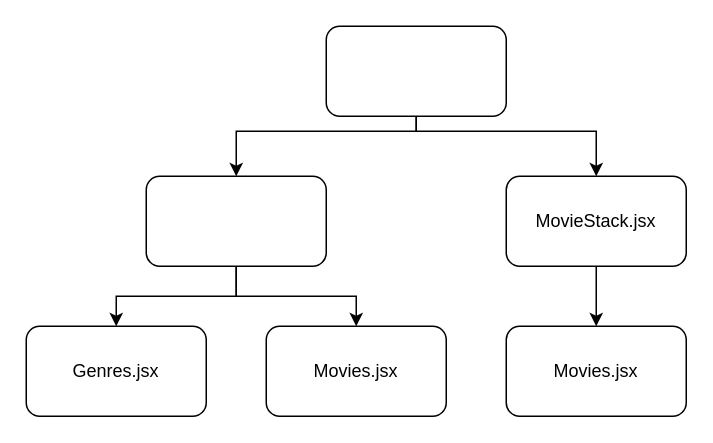
This 713x443 diagram has some shape labels left out. Each missing label, with the centre of its shape:
"App.js" goes at point 415,70.
"User.jsx" goes at point 235,220.
